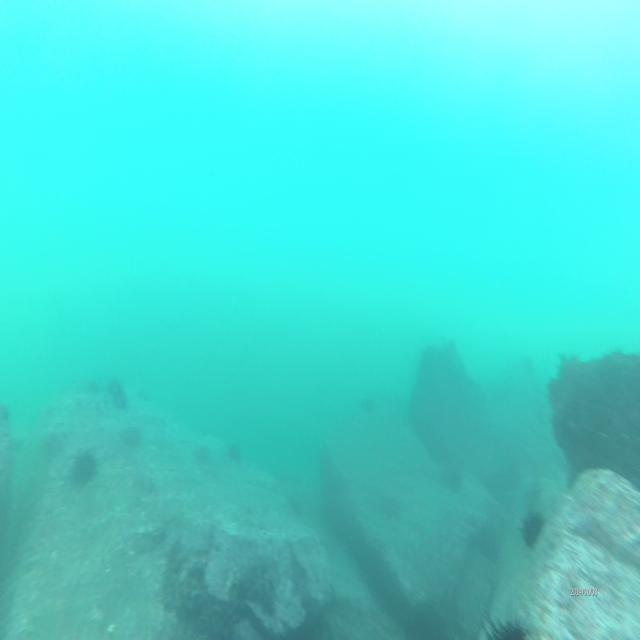echinus: (67, 446, 97, 493), (519, 506, 547, 548)
